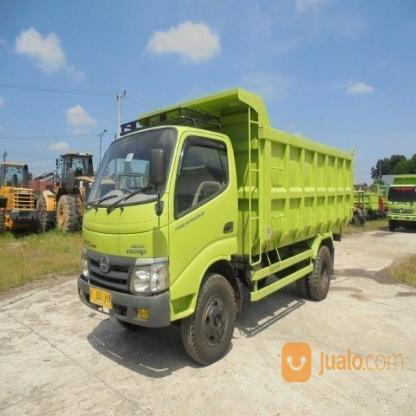dump_truck: (73, 81, 355, 362)
